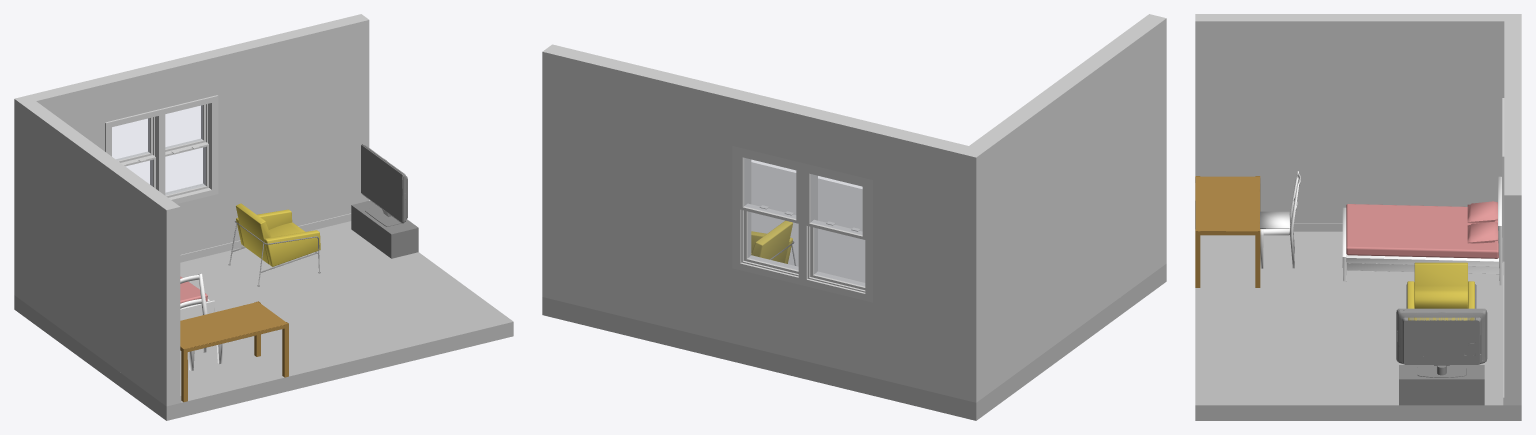
Rendered from L12_W16_furniture3_privacy3.glb.
3 renders of one model, left to right at view 1: azimuth 30°, elevation 25°; view 2: azimuth 150°, elevation 25°; view 3: azimuth 270°, elevation 25°, orthographic. The views are drawn at different scales.
Bounding box in the file's own units: 200 × 116 × 152.
